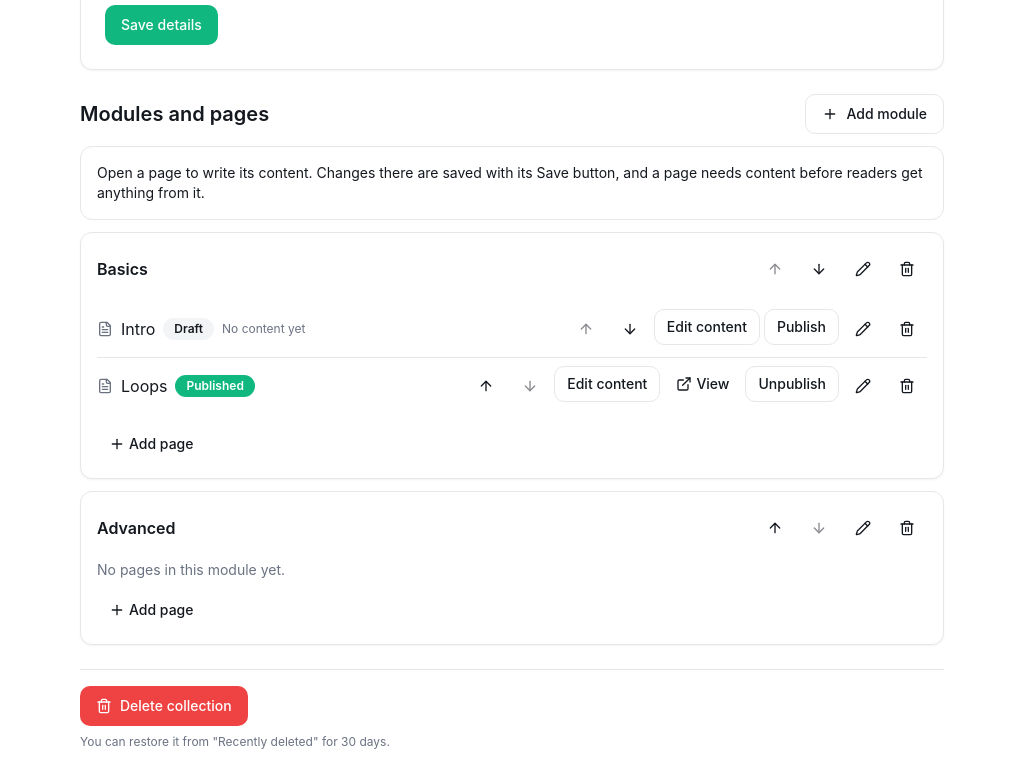
Test: pages › unpublishing is immediate and the collection's counts follow
(page scrolled)
Click the button "Unpublish": (792, 384) x1=746 y1=366 x2=839 y2=402
(page scrolled)
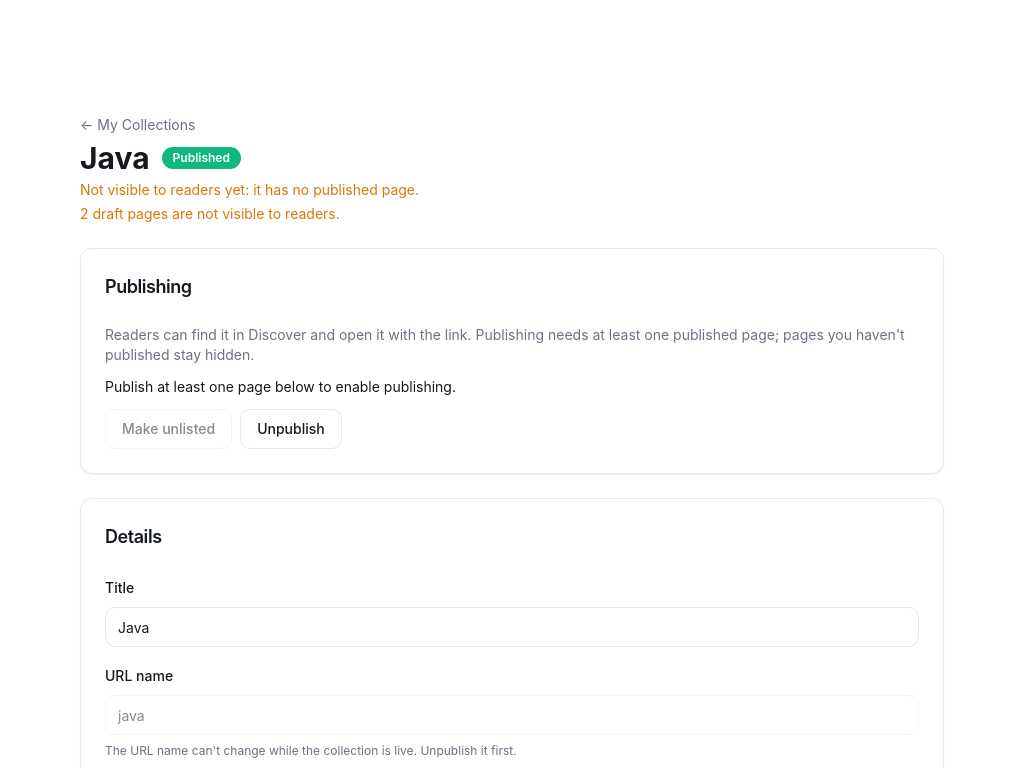
Expected: the text "Not visible to readers yet: it has no published page." is shown, x1=80 y1=181 x2=419 y2=198
